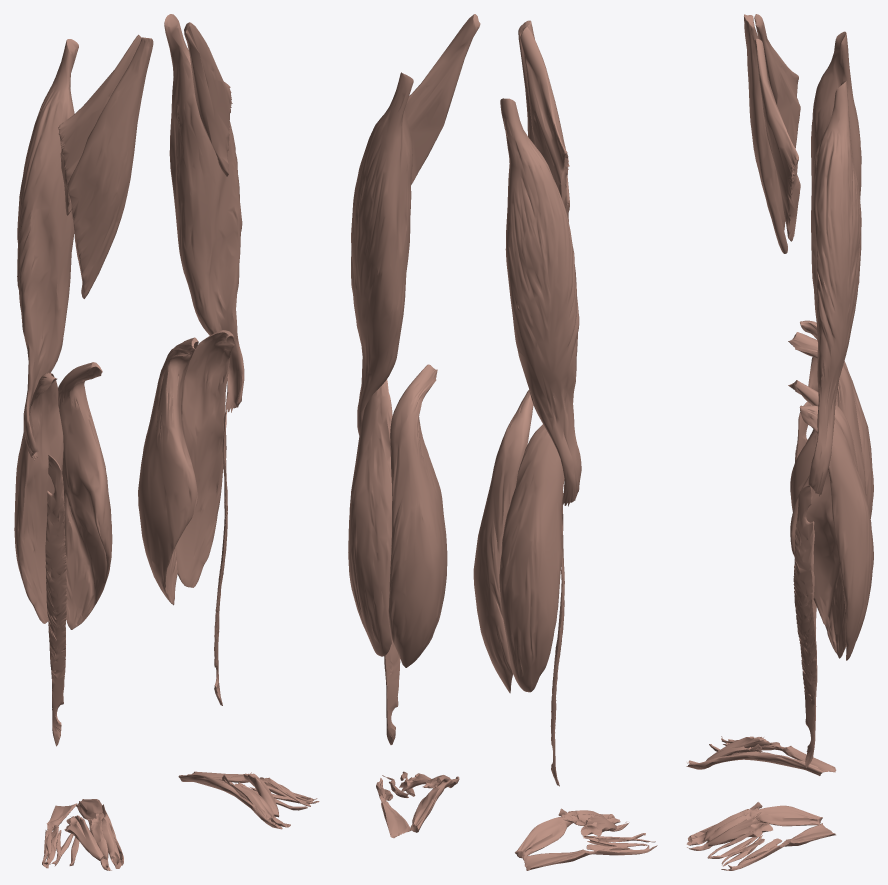
Rendered from other-15.glb.
3 renders of one model, left to right at view 1: azimuth 30°, elevation 25°; view 2: azimuth 150°, elevation 25°; view 3: azimuth 270°, elevation 25°, orthographic. The views are drawn at different scales.
Visible parts, largest first — view 1: FJ1395M, FJ1395, FJ1397, FJ1402, FJ1397M, FJ1394M, FJ1394, FJ1392, FJ1401M, FJ1401, FJ1392M, FJ1400M (+1 smaller); view 2: FJ1395, FJ1395M, FJ1397M, FJ1394, FJ1394M, FJ1397, FJ1401M, FJ1401, FJ1392, FJ1400, FJ1392M, FJ1390 (+3 smaller); view 3: FJ1395M, FJ1394M, FJ1397M, FJ1392M, FJ1395, FJ1402, FJ1401M, FJ1397, FJ1401, FJ1394, FJ1400M, FJ1400 (+7 smaller).
Part boxes in pixels (left/top/right/bottom): FJ1395M: left=164, top=14, right=244, bottom=412; FJ1395: left=17, top=39, right=78, bottom=460; FJ1397: left=58, top=362, right=112, bottom=629; FJ1402: left=67, top=37, right=153, bottom=298; FJ1397M: left=138, top=337, right=198, bottom=605; FJ1394M: left=175, top=330, right=235, bottom=587; FJ1394: left=14, top=372, right=63, bottom=623; FJ1392: left=45, top=454, right=66, bottom=746; FJ1401M: left=184, top=22, right=232, bottom=176; FJ1401: left=58, top=34, right=141, bottom=215; FJ1392M: left=214, top=411, right=227, bottom=705; FJ1400M: left=178, top=774, right=277, bottom=827; FJ1395: left=500, top=98, right=581, bottom=506; FJ1395M: left=351, top=72, right=413, bottom=435; FJ1397M: left=388, top=364, right=447, bottom=667; FJ1394: left=499, top=424, right=564, bottom=692; FJ1394M: left=348, top=379, right=392, bottom=656; FJ1397: left=473, top=390, right=533, bottom=693; FJ1401M: left=405, top=14, right=480, bottom=184; FJ1401: left=520, top=26, right=569, bottom=207; FJ1392: left=550, top=493, right=564, bottom=786; FJ1400: left=515, top=814, right=614, bottom=858; FJ1392M: left=384, top=640, right=400, bottom=744; FJ1390: left=521, top=845, right=652, bottom=870; FJ1395M: left=808, top=80, right=861, bottom=496; FJ1394M: left=799, top=405, right=873, bottom=660; FJ1397M: left=788, top=380, right=858, bottom=658; FJ1392M: left=793, top=485, right=817, bottom=768; FJ1395: left=808, top=31, right=861, bottom=391; FJ1402: left=744, top=14, right=787, bottom=253; FJ1401M: left=754, top=38, right=800, bottom=241; FJ1397: left=788, top=332, right=866, bottom=511; FJ1401: left=754, top=14, right=800, bottom=148; FJ1394: left=800, top=320, right=873, bottom=518; FJ1400M: left=688, top=805, right=822, bottom=840; FJ1400: left=688, top=751, right=822, bottom=775.
Bounding box in the file's own units: 0.3115 × 0.8707 × 0.1894.
